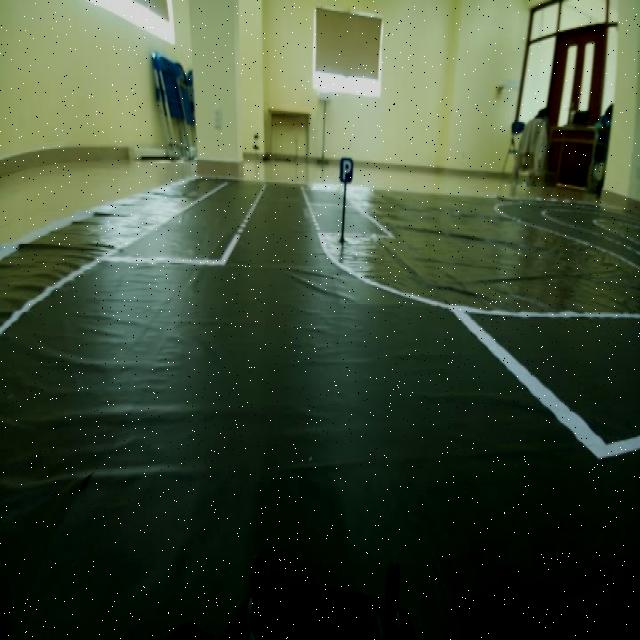parking: (334, 151, 360, 183)
